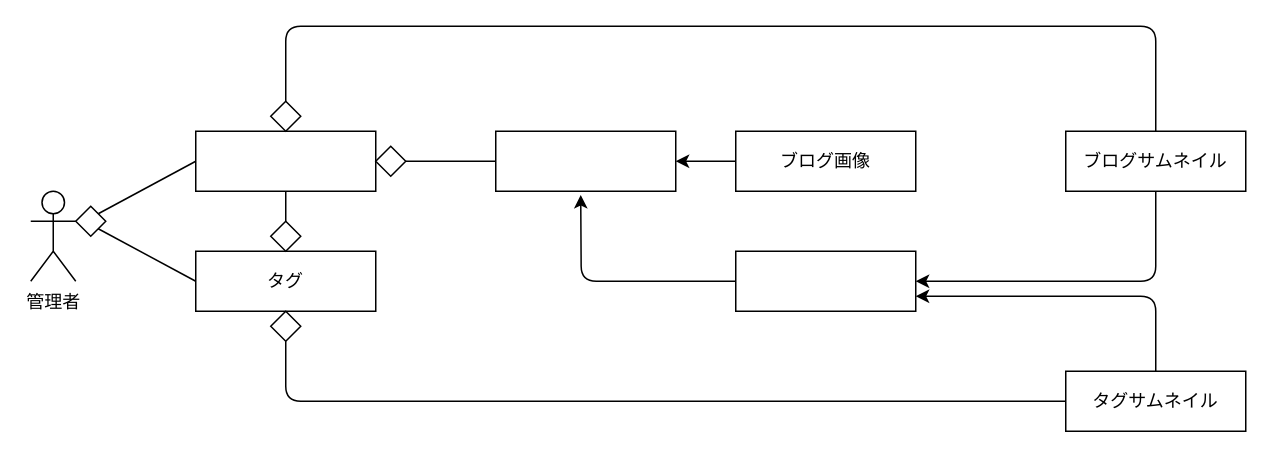
Some shapes in this 1272 by 458 pixel diagram are drawn without their labels. Each missing label, with the box of its shape:
サムネイル: (734, 250, 916, 311)
ブログ記事: (194, 130, 376, 191)
画像: (494, 130, 676, 191)
